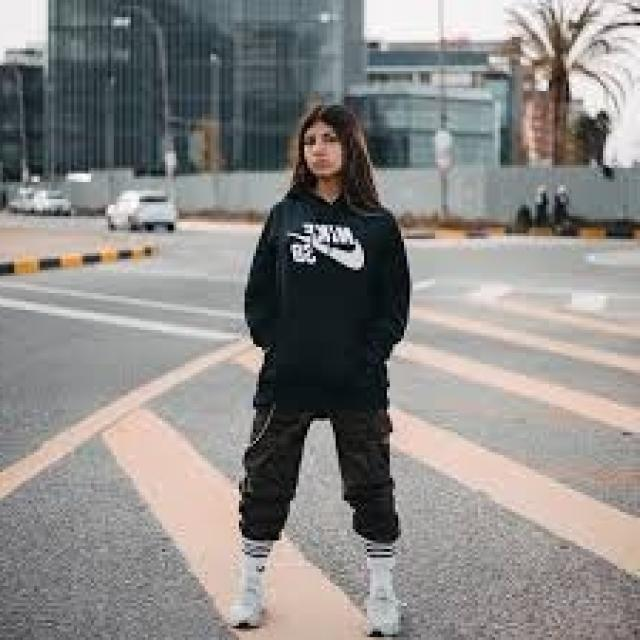nike: (283, 219, 363, 275)
